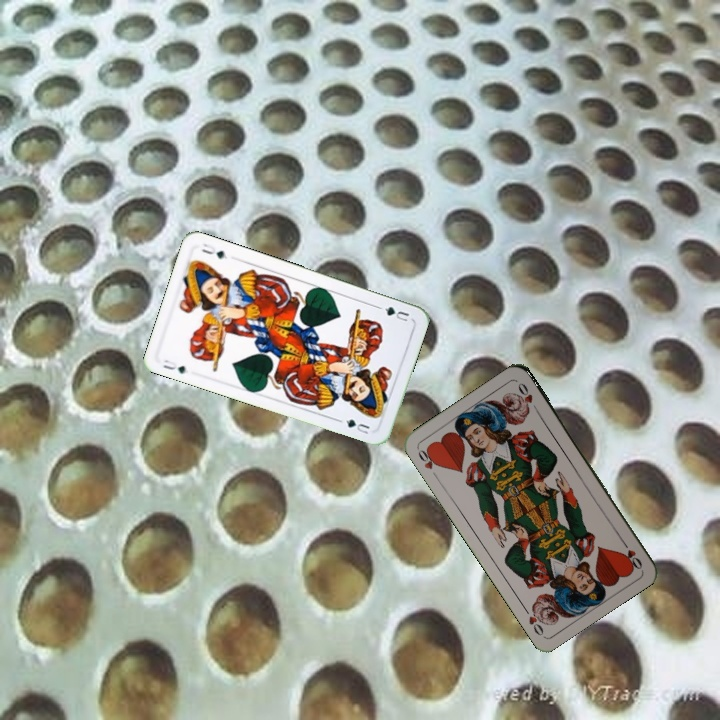GU: (374, 302, 411, 324), (159, 355, 188, 376)
HO: (413, 444, 442, 481), (617, 536, 645, 572)
